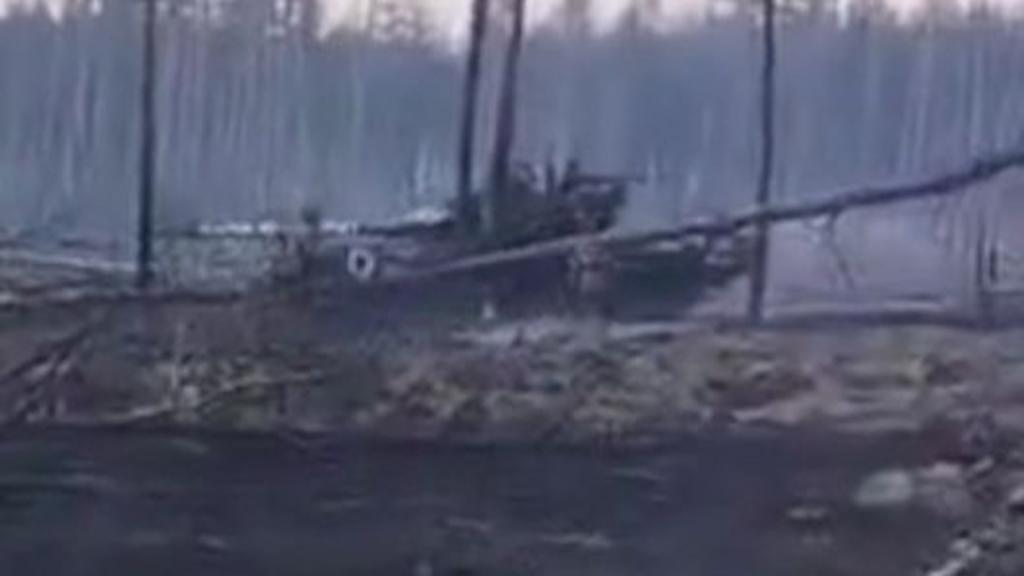TANK: (168, 156, 744, 340)
